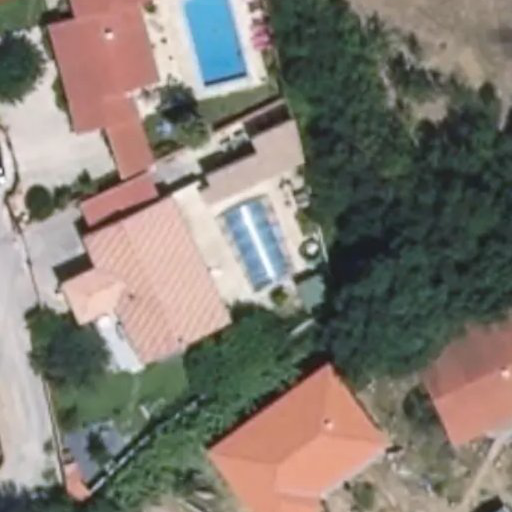pool: (220, 212, 291, 271)
